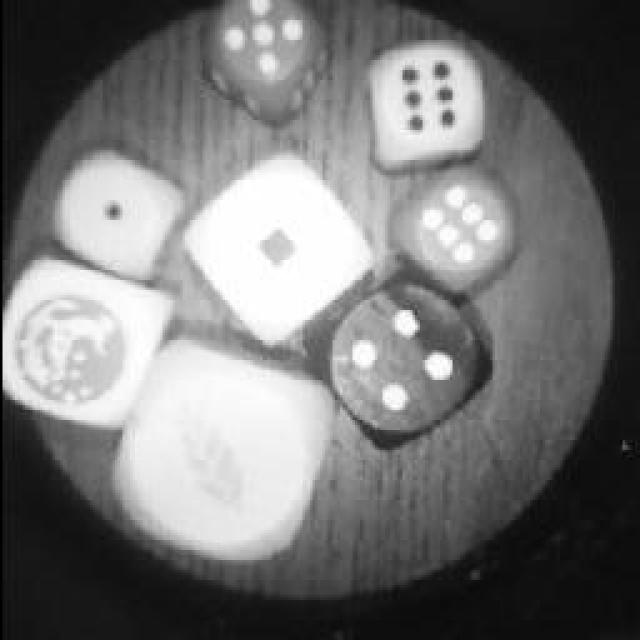dice_1: (40, 132, 188, 288)
dice_4: (298, 265, 502, 455)
dice_5: (193, 0, 335, 125)
dice_6: (380, 157, 530, 305), (355, 32, 487, 172)
